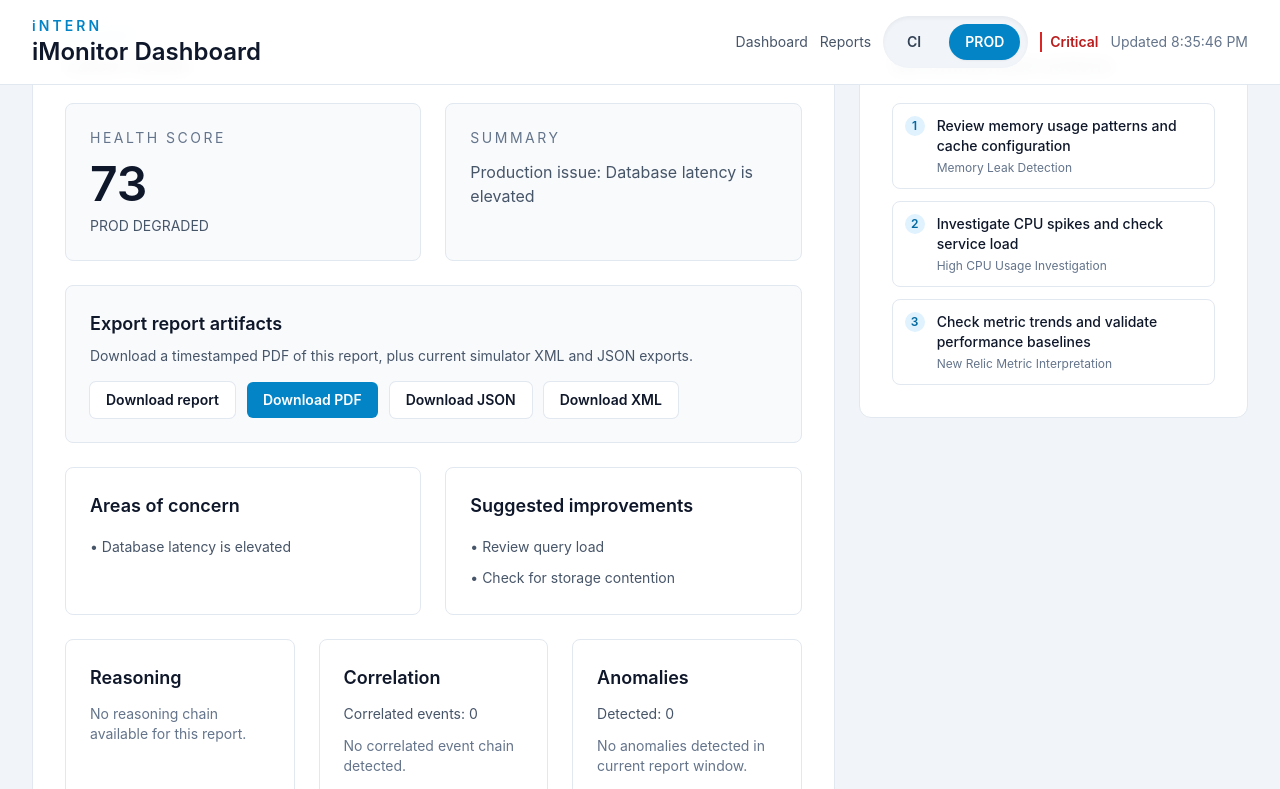
Test case: report exports in the dashboard › creates a pdf download using the latest dashboard telemetry snapshot
(page scrolled)
What coordinates should you click on to do the following:
click the button "Download PDF"
I would click on:
 (312, 400)
Its box is [247, 382, 378, 418].
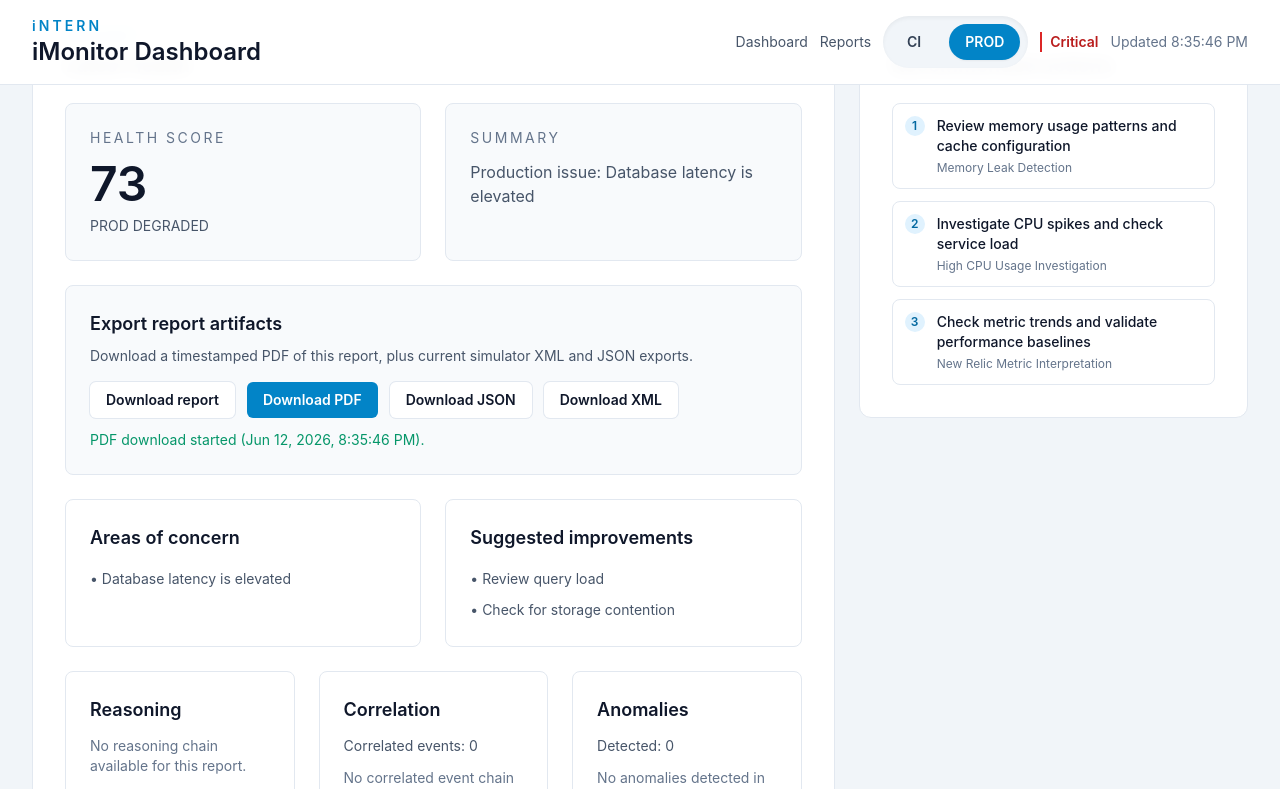
Check: the text "PDF download started (Jun 12, 2026, 8:35:46 PM)." is shown, box [90, 431, 424, 448]
